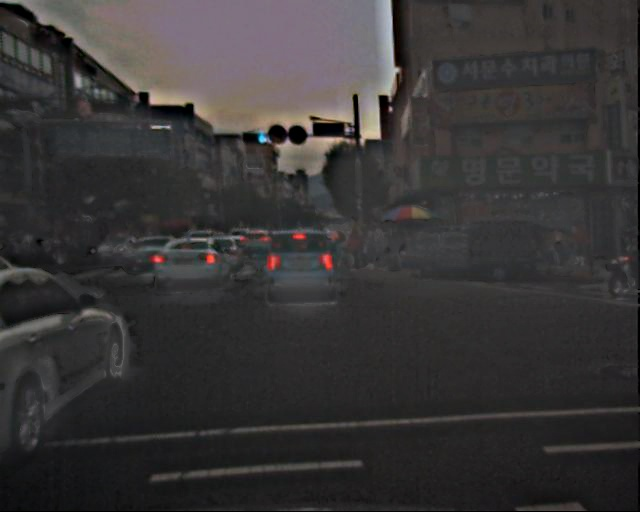person: (345, 226, 410, 268), (570, 222, 593, 277)
